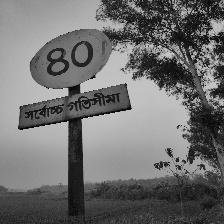Speed-limit: (20, 28, 127, 130)
